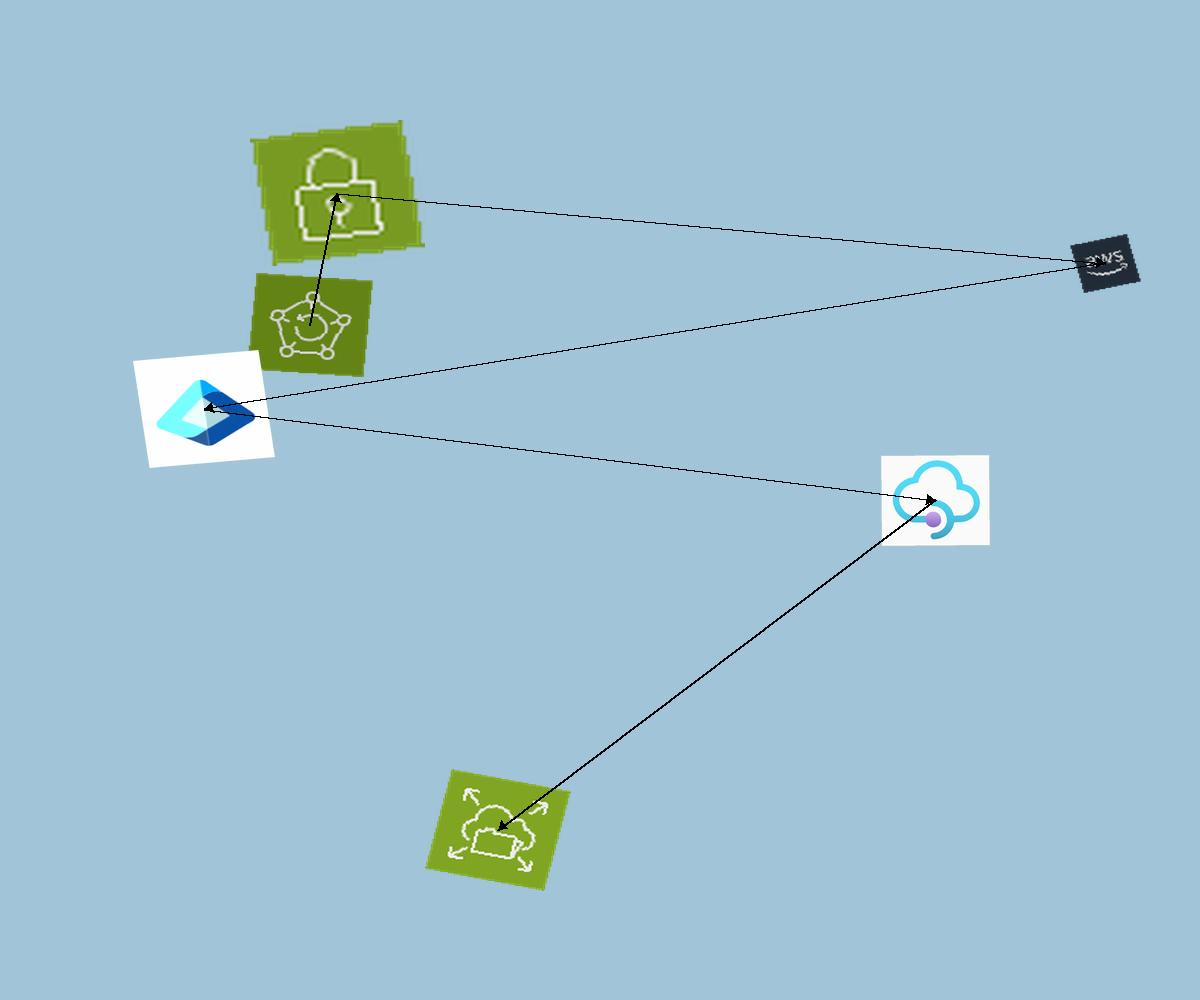AWS-Backup: (246, 272, 374, 378)
AWS-Cloud-logo: (1069, 233, 1142, 294)
AWS-EFS: (425, 769, 571, 891)
AWS-Public-subnet: (250, 120, 425, 266)
Azure_api_gateway: (881, 455, 990, 546)
Azure_microsoft_entra: (133, 350, 275, 468)
